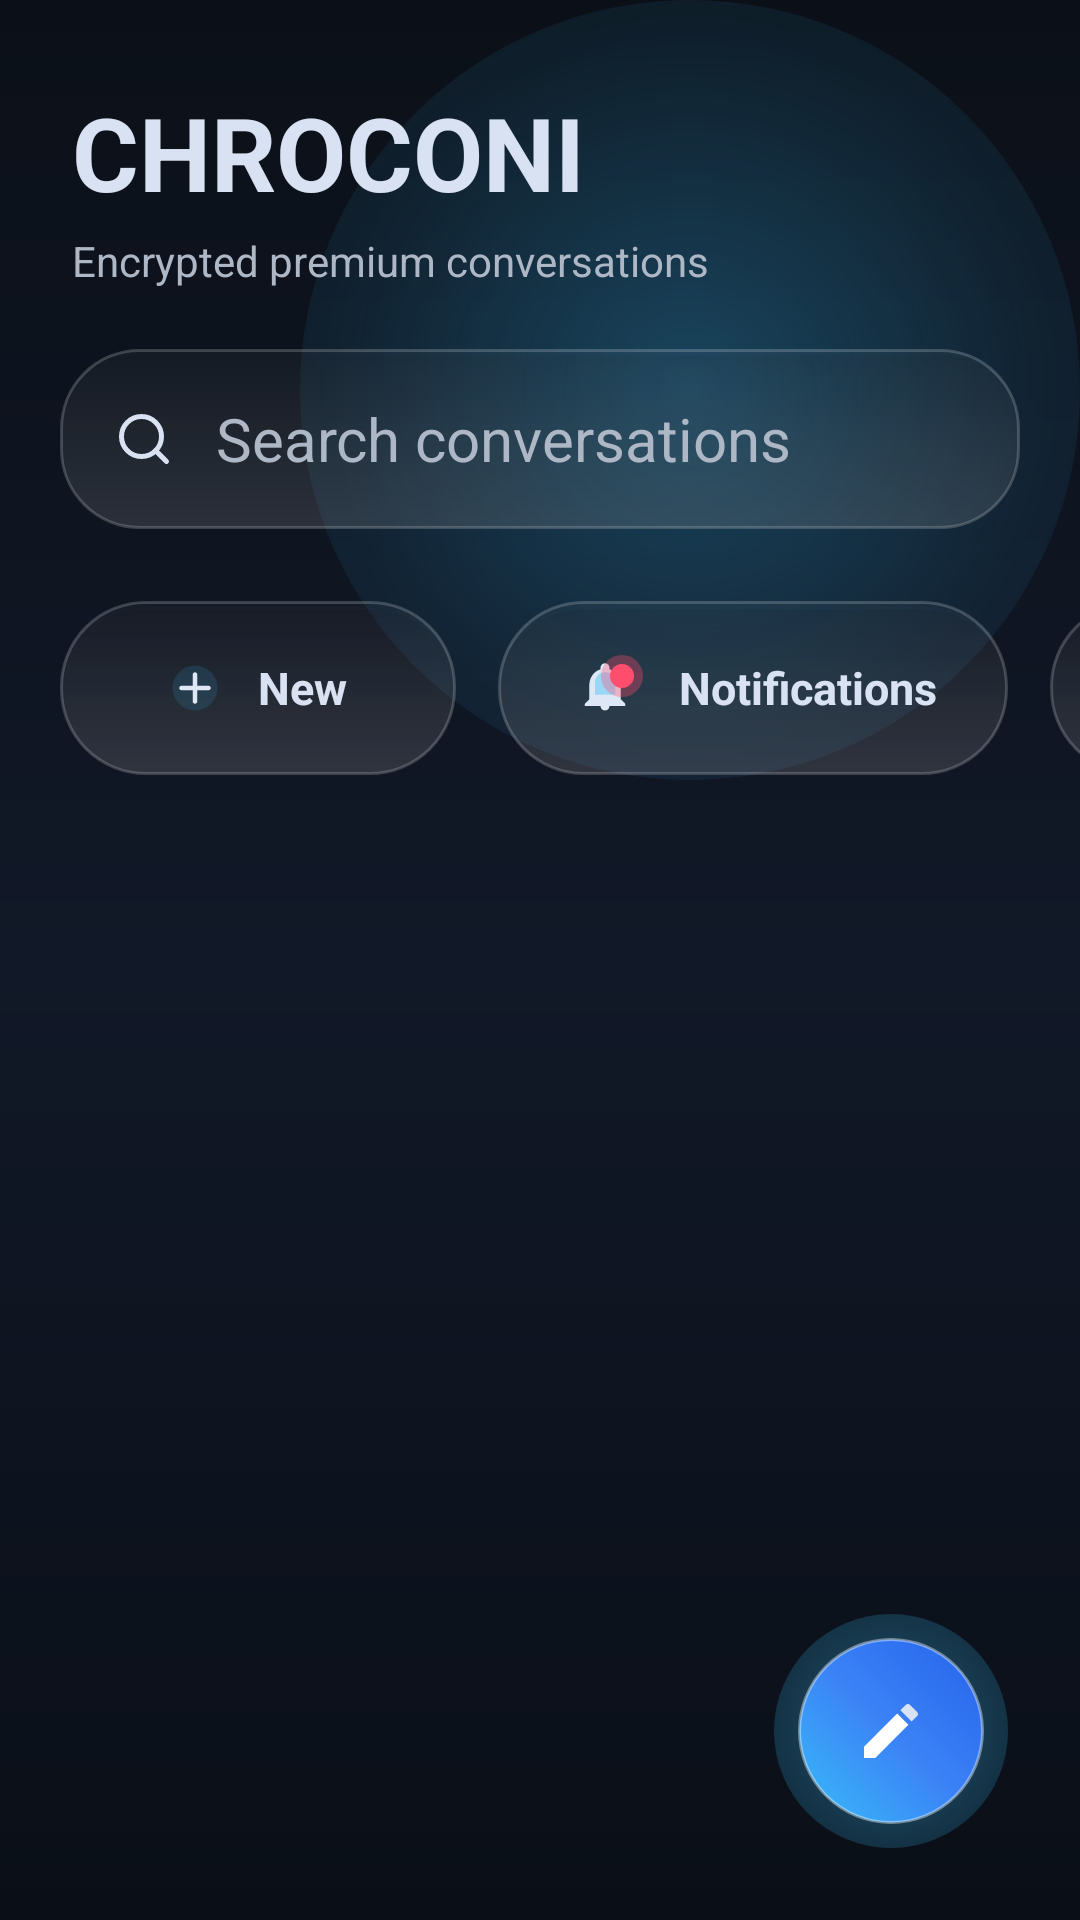

Locate icon controls on the screen. Image size 1080*1920, boxes as [left=x1, top=y1, right=x2, bottom=y2].
edit: [left=798, top=1638, right=984, bottom=1824]
